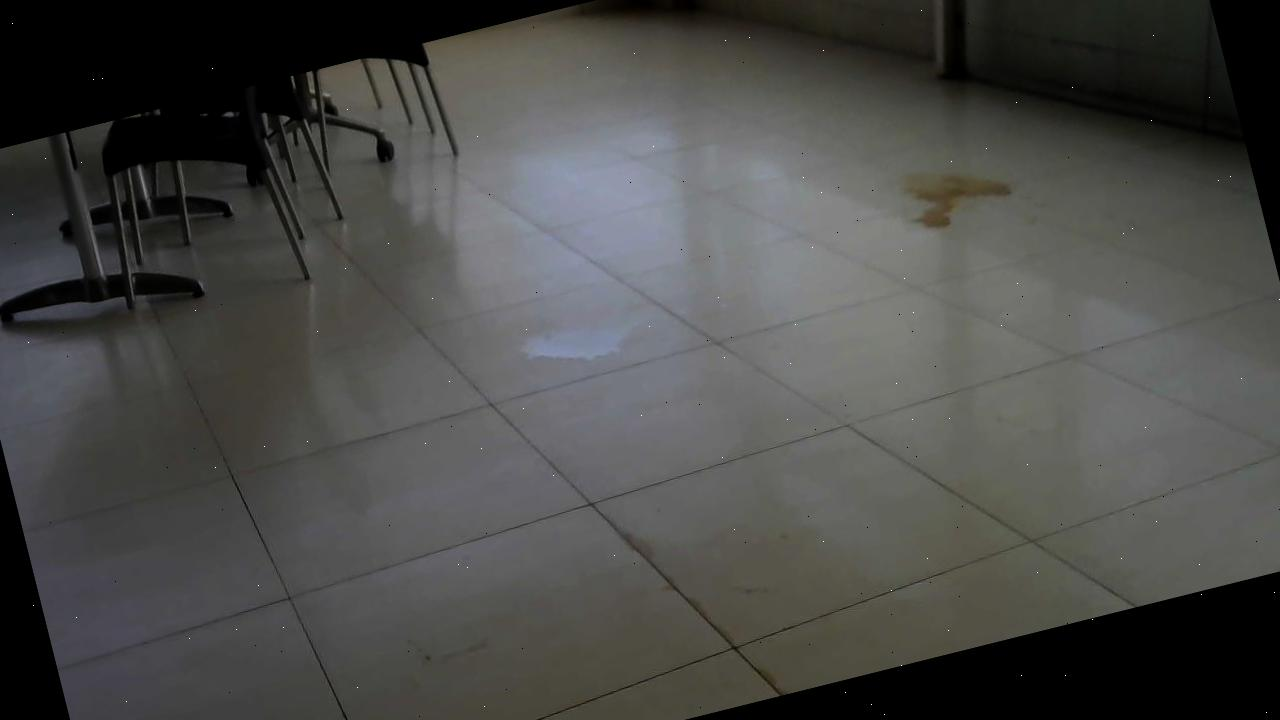dirty_floor: (889, 145, 1022, 243), (509, 306, 643, 382)
